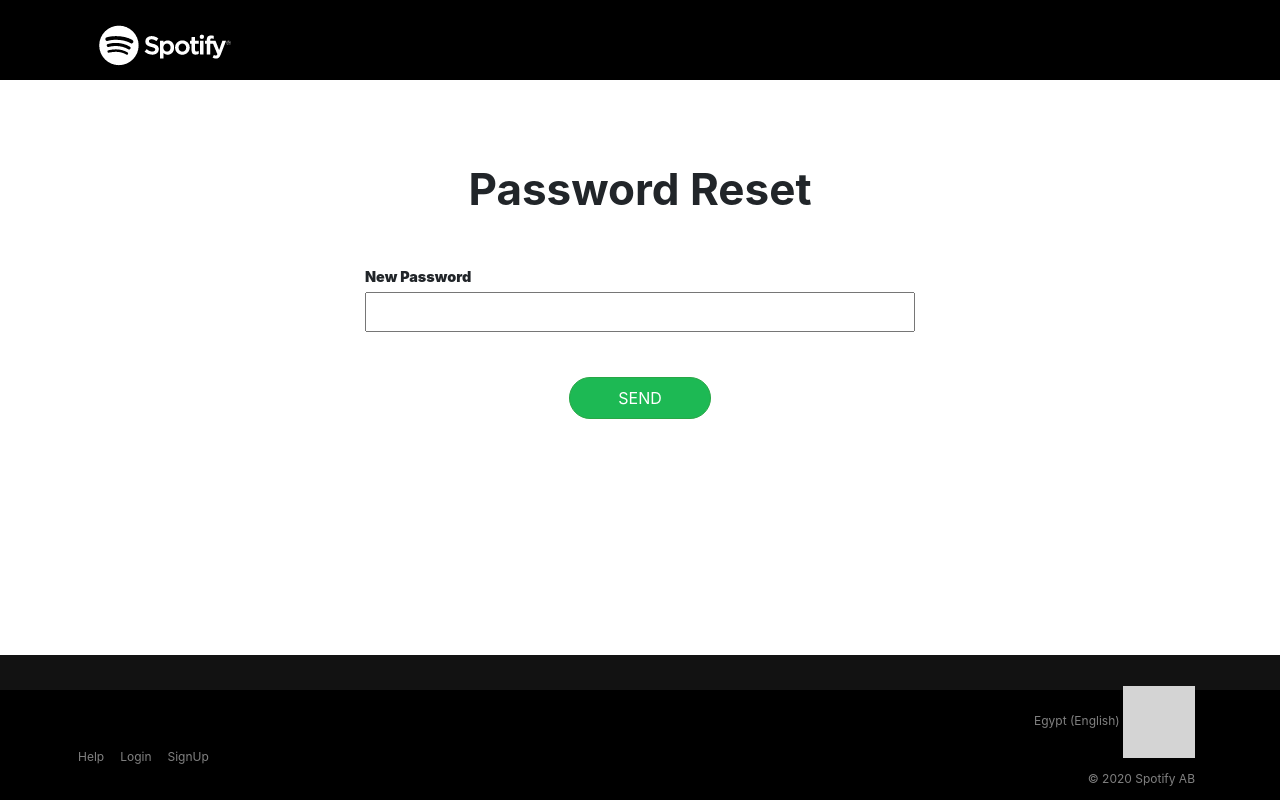
Test: Create New Password input validation Container test › Should not be empty input
Click the button "SEND" at {"x": 640, "y": 398}, box [569,377,711,419]
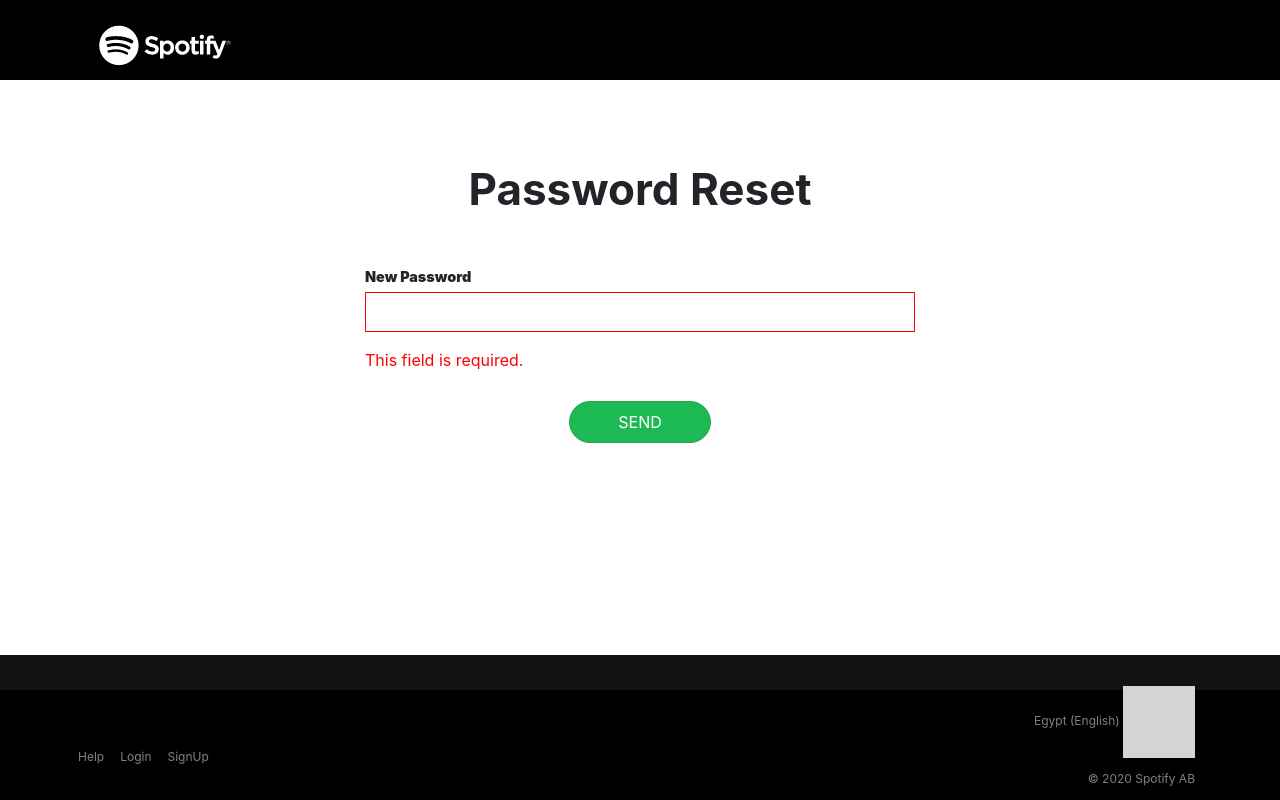
Now the text with id "empty-input" reads "This field is required.", box [365,350,523,370]
